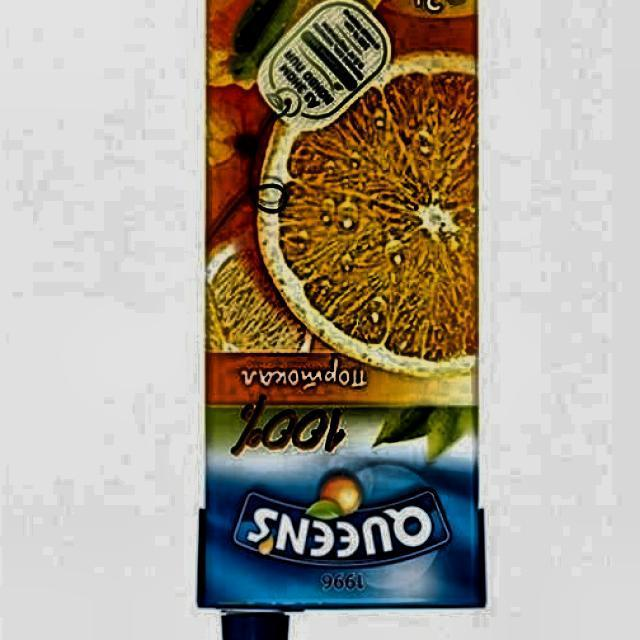cardboard: (199, 0, 486, 640)
